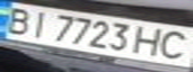2: (87, 17, 112, 52)
3: (109, 20, 136, 54)
7: (48, 11, 75, 43), (66, 15, 93, 47)
B: (0, 3, 36, 36)
C: (154, 28, 193, 61)
H: (133, 24, 169, 57)
I: (21, 8, 54, 38)
